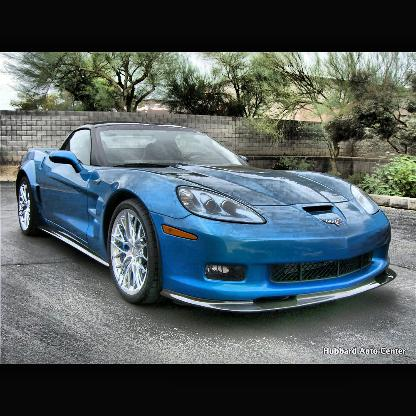Chevrolet Corvette ZR1 2012: (15, 123, 399, 308)
